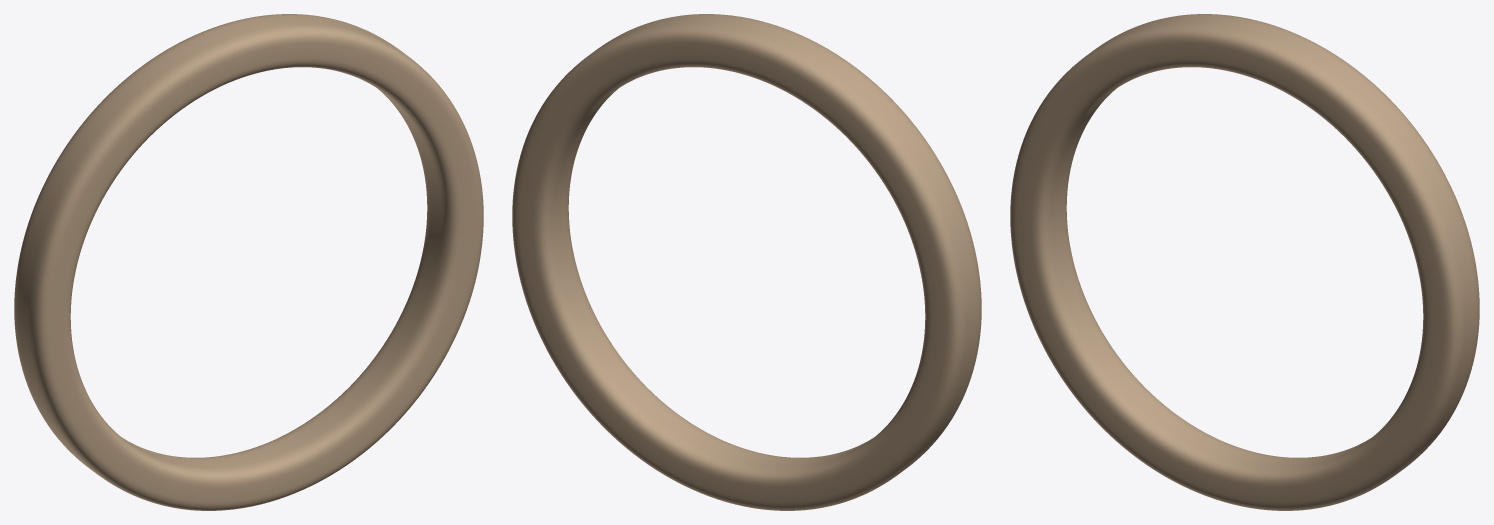
Rendered from plain_silver_ring.glb.
3 renders of one model, left to right at view 1: azimuth 30°, elevation 25°; view 2: azimuth 150°, elevation 25°; view 3: azimuth 330°, elevation 25°, orthographic.
Visible parts, largest first — view 1: RingPlain; view 2: RingPlain; view 3: RingPlain.
Part boxes in pixels (x1=…): RingPlain: x1=14, y1=14, x2=483, y2=510; RingPlain: x1=512, y1=14, x2=981, y2=510; RingPlain: x1=1010, y1=14, x2=1479, y2=510.
Size of the model in its own units: 2 by 2 by 0.22.
